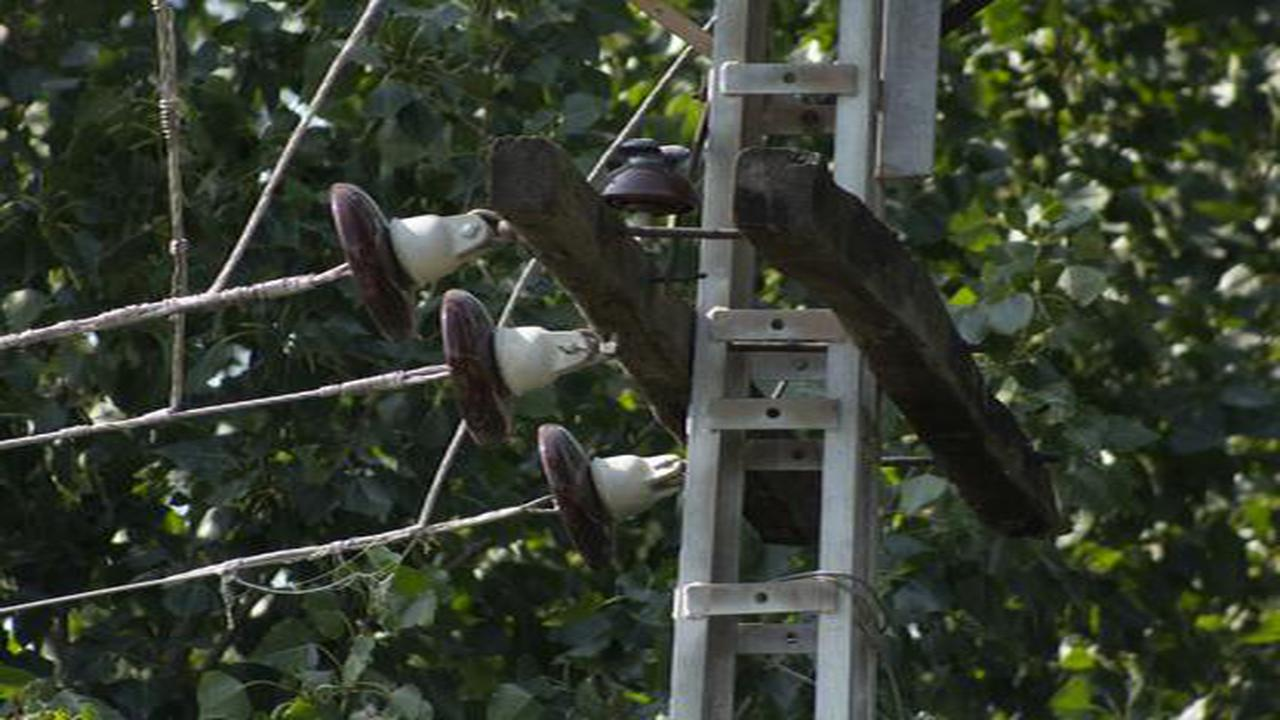insulator_disc: (530, 416, 669, 591), (320, 166, 436, 354), (439, 273, 548, 441)
insulator_pin: (592, 128, 704, 226)
